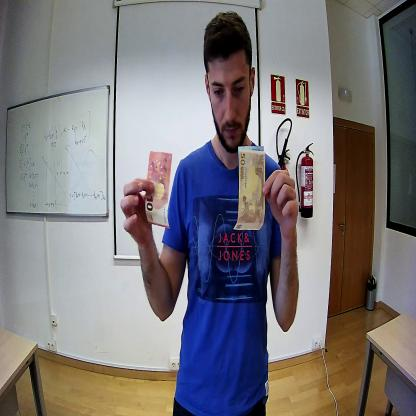billete: (232, 146, 265, 230), (145, 150, 172, 228)
